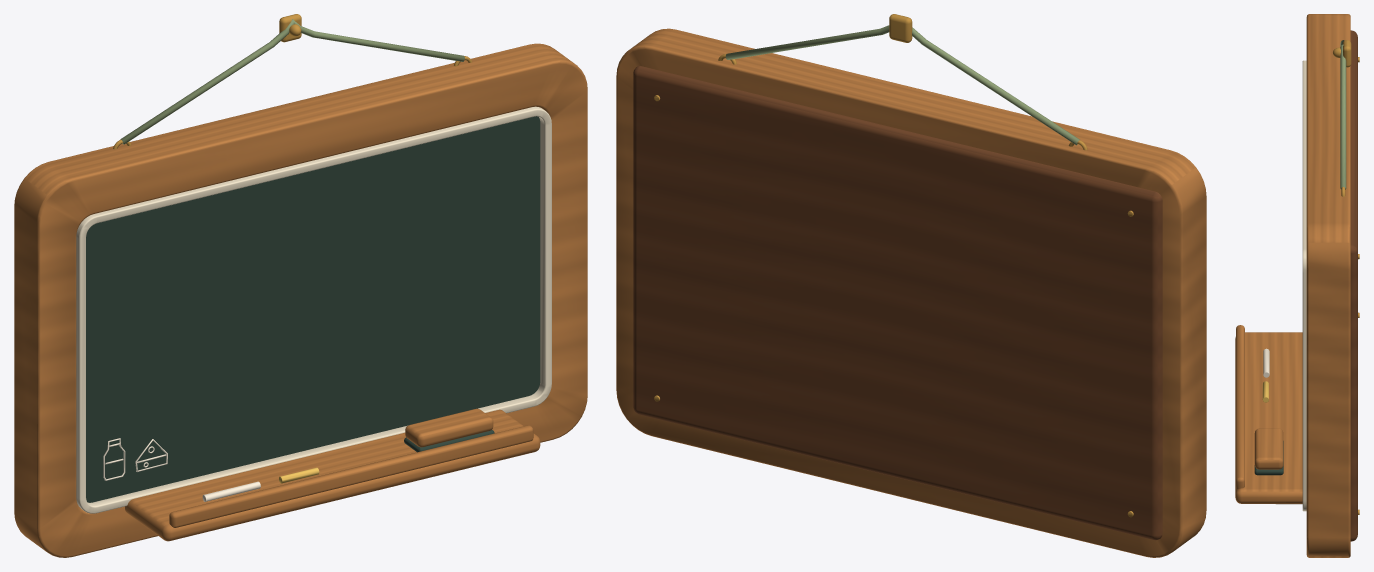
File: Chalkboard.fbx
3 renders of one model, left to right at view 1: azimuth 30°, elevation 25°; view 2: azimuth 150°, elevation 25°; view 3: azimuth 270°, elevation 25°, orthographic. The views are drawn at different scales.
Visible parts, largest first — view 1: Chalkboard; view 2: Chalkboard; view 3: Chalkboard.
Part boxes in pixels (x1=…): Chalkboard: x1=14, y1=14, x2=587, y2=557; Chalkboard: x1=616, y1=14, x2=1206, y2=557; Chalkboard: x1=1235, y1=14, x2=1359, y2=557.
Size of the model in its own units: 105 by 85 by 23.4.
1 material, 1 textured.
